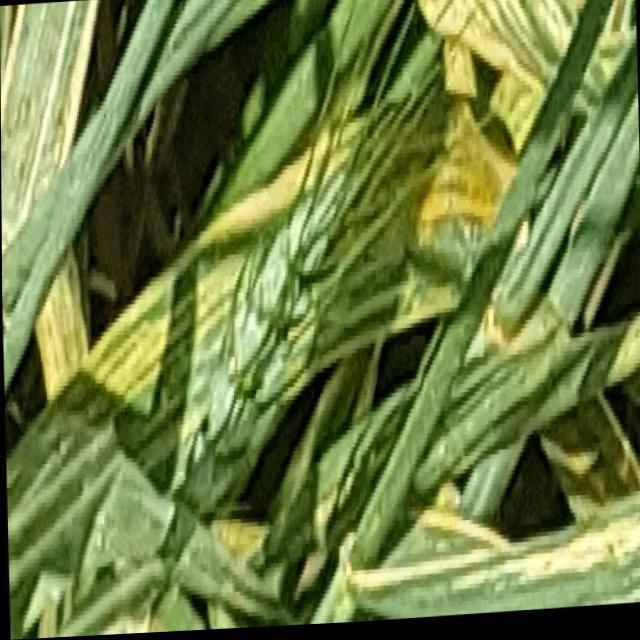Yellow Rust: (420, 125, 502, 218), (109, 317, 151, 402)
